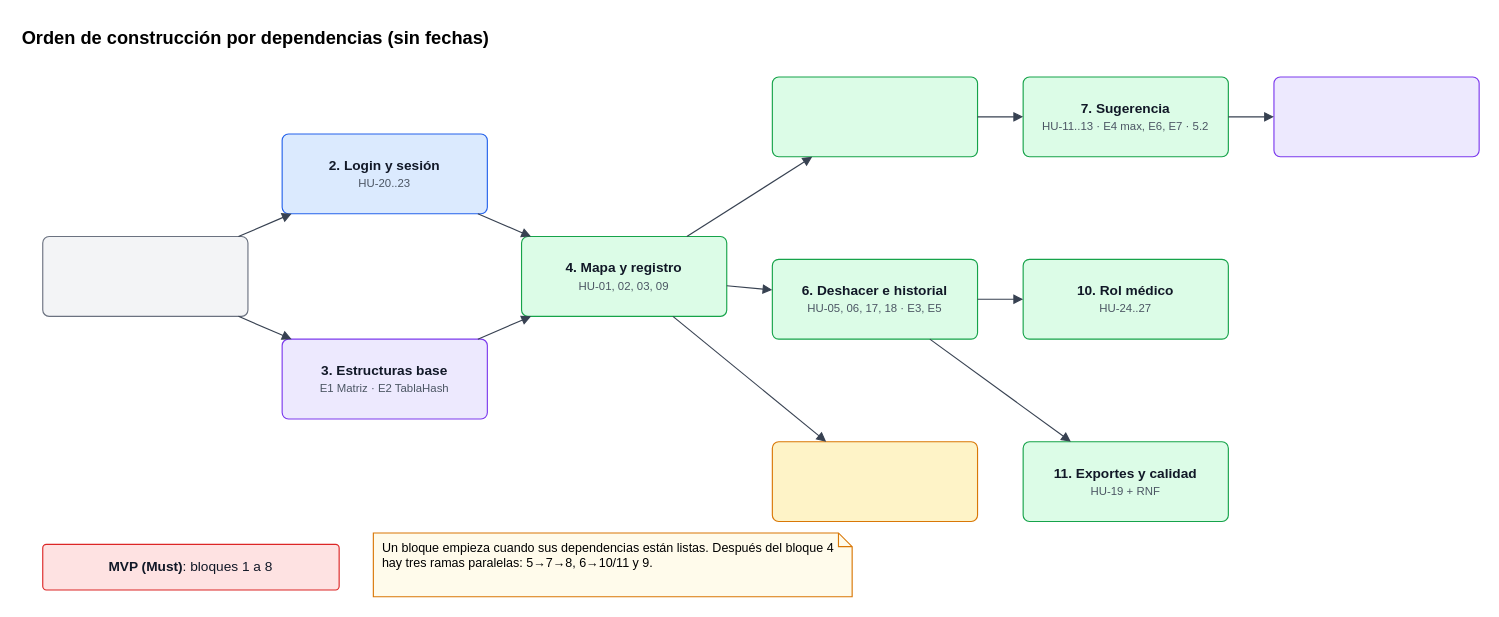
Image size: 1499x617. Some labels were removed from this diagram. The shapes that lost their labels are listed below. From the top down, each one's centre as x and y in pixels, then its label:
(x=874, y=116): 5. Recuperación y colores HU-04, 07, 08, 10 · alg. 5.1
(x=1376, y=116): 8. Asistente IA HU-28..30 · Insumap-ai
(x=145, y=275): 1. Fundaciones carpetas, CI, BD, deploy
(x=874, y=481): 9. Recordatorios HU-14..16 · E4 min · 5.4
